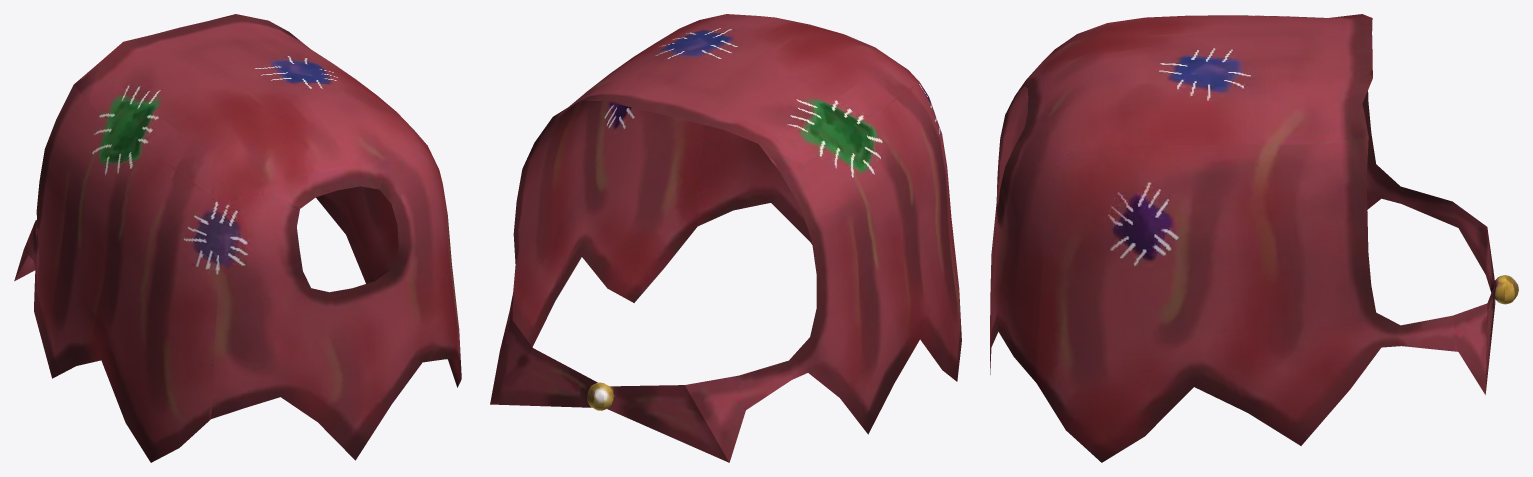
The model's file is Cape.glb.
3 views of the same model, side by side, from view 1: azimuth 30°, elevation 25°; view 2: azimuth 150°, elevation 25°; view 3: azimuth 270°, elevation 25° (orthographic). The views are drawn at different scales.
Parts seen in each view (by area): view 1: Cape; view 2: Cape; view 3: Cape.
Boxes of the visible parts, left/top/right/bottom form: Cape: left=14, top=14, right=461, bottom=462; Cape: left=490, top=14, right=961, bottom=462; Cape: left=990, top=14, right=1518, bottom=462.
Bounding box in the file's own units: 1.31 × 1.21 × 1.72.
Materials: 1 (1 with a texture image).
